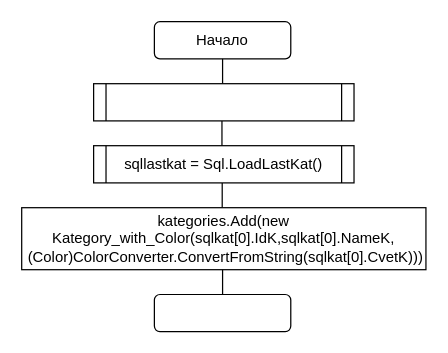
Image size: 448x353. Some labels were removed from this diagram. The centre of each missing label's shape, as x and y in pixels:
"Sql.AddKat()" belongs at point 223,101.
"Конец" belongs at point 222,312.
